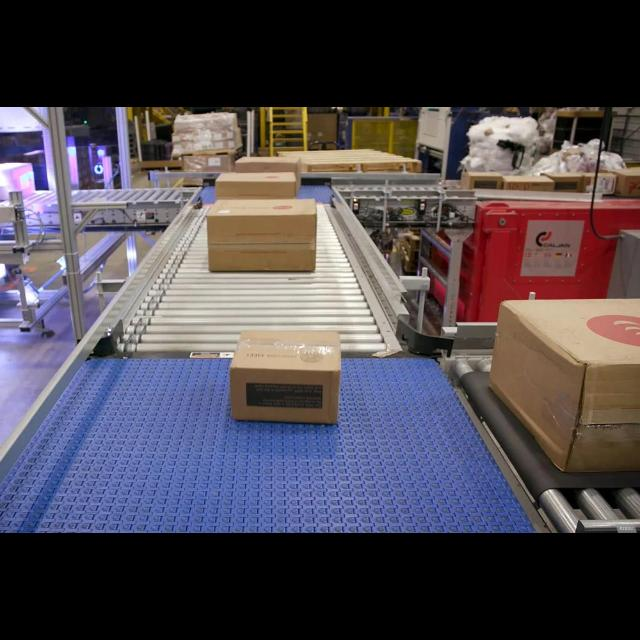box: (488, 298, 640, 476), (230, 329, 342, 426), (208, 198, 318, 274), (215, 174, 298, 198)
